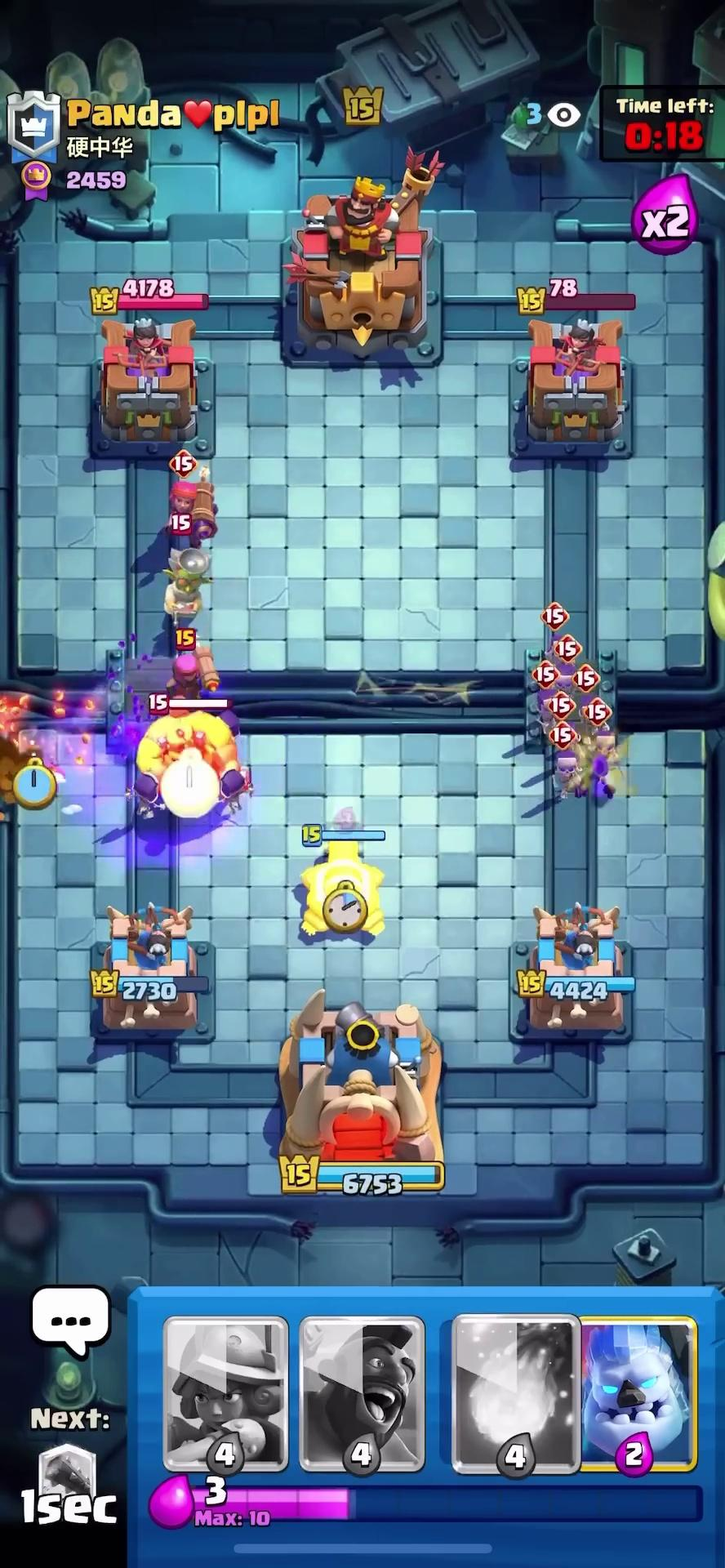cannon: (286, 819, 388, 947)
evo_skeletons: (212, 753, 251, 817), (125, 764, 163, 821)
